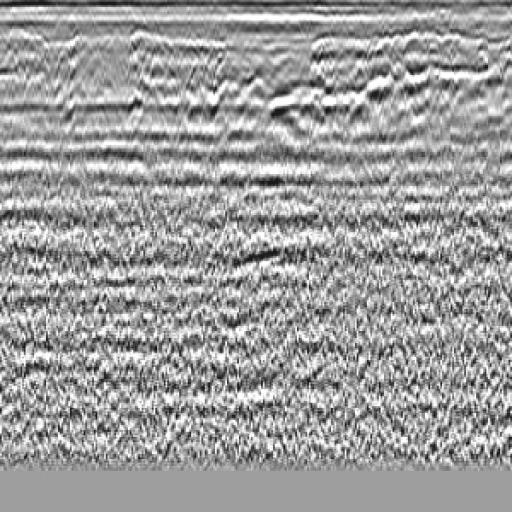non-metallic: (47, 32, 106, 118)
